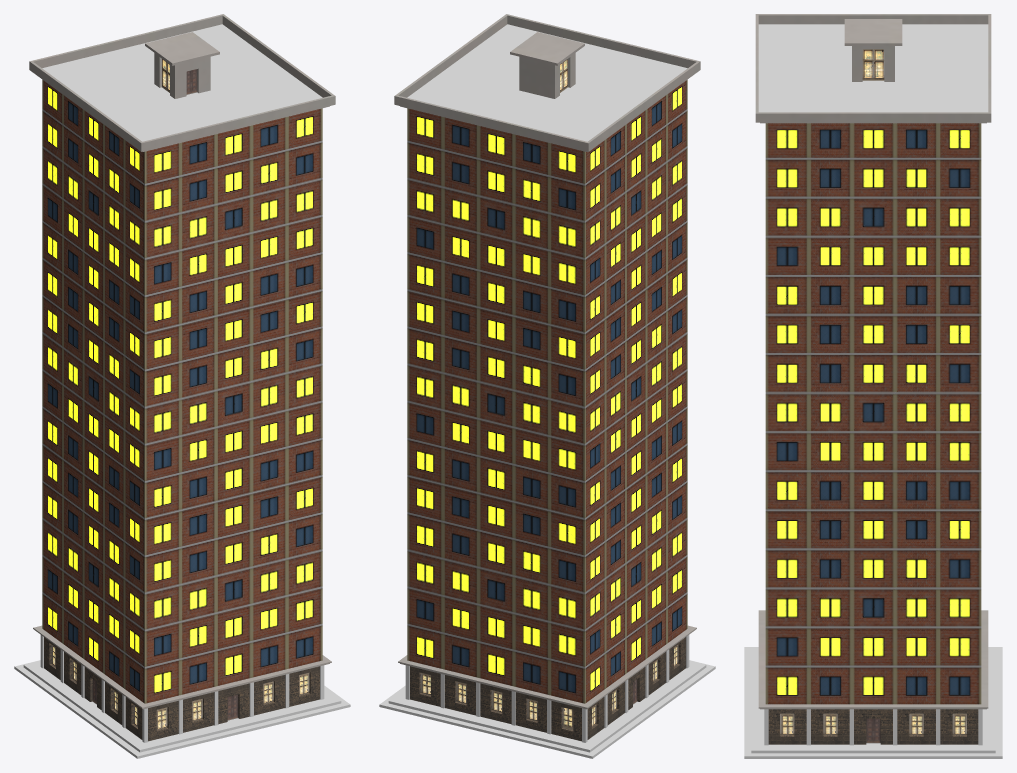
File: BuildingH.fbx
3 views of the same model, side by side, from view 1: azimuth 30°, elevation 25°; view 2: azimuth 150°, elevation 25°; view 3: azimuth 270°, elevation 25° (orthographic). The views are drawn at different scales.
Parts seen in each view (by area): view 1: BuildingH; view 2: BuildingH; view 3: BuildingH.
Boxes of the visible parts, x1=… form: BuildingH: x1=14, y1=14, x2=350, y2=758; BuildingH: x1=379, y1=14, x2=715, y2=758; BuildingH: x1=744, y1=14, x2=1002, y2=758.
Bounding box in the file's own units: 1800 × 5170 × 1800.
